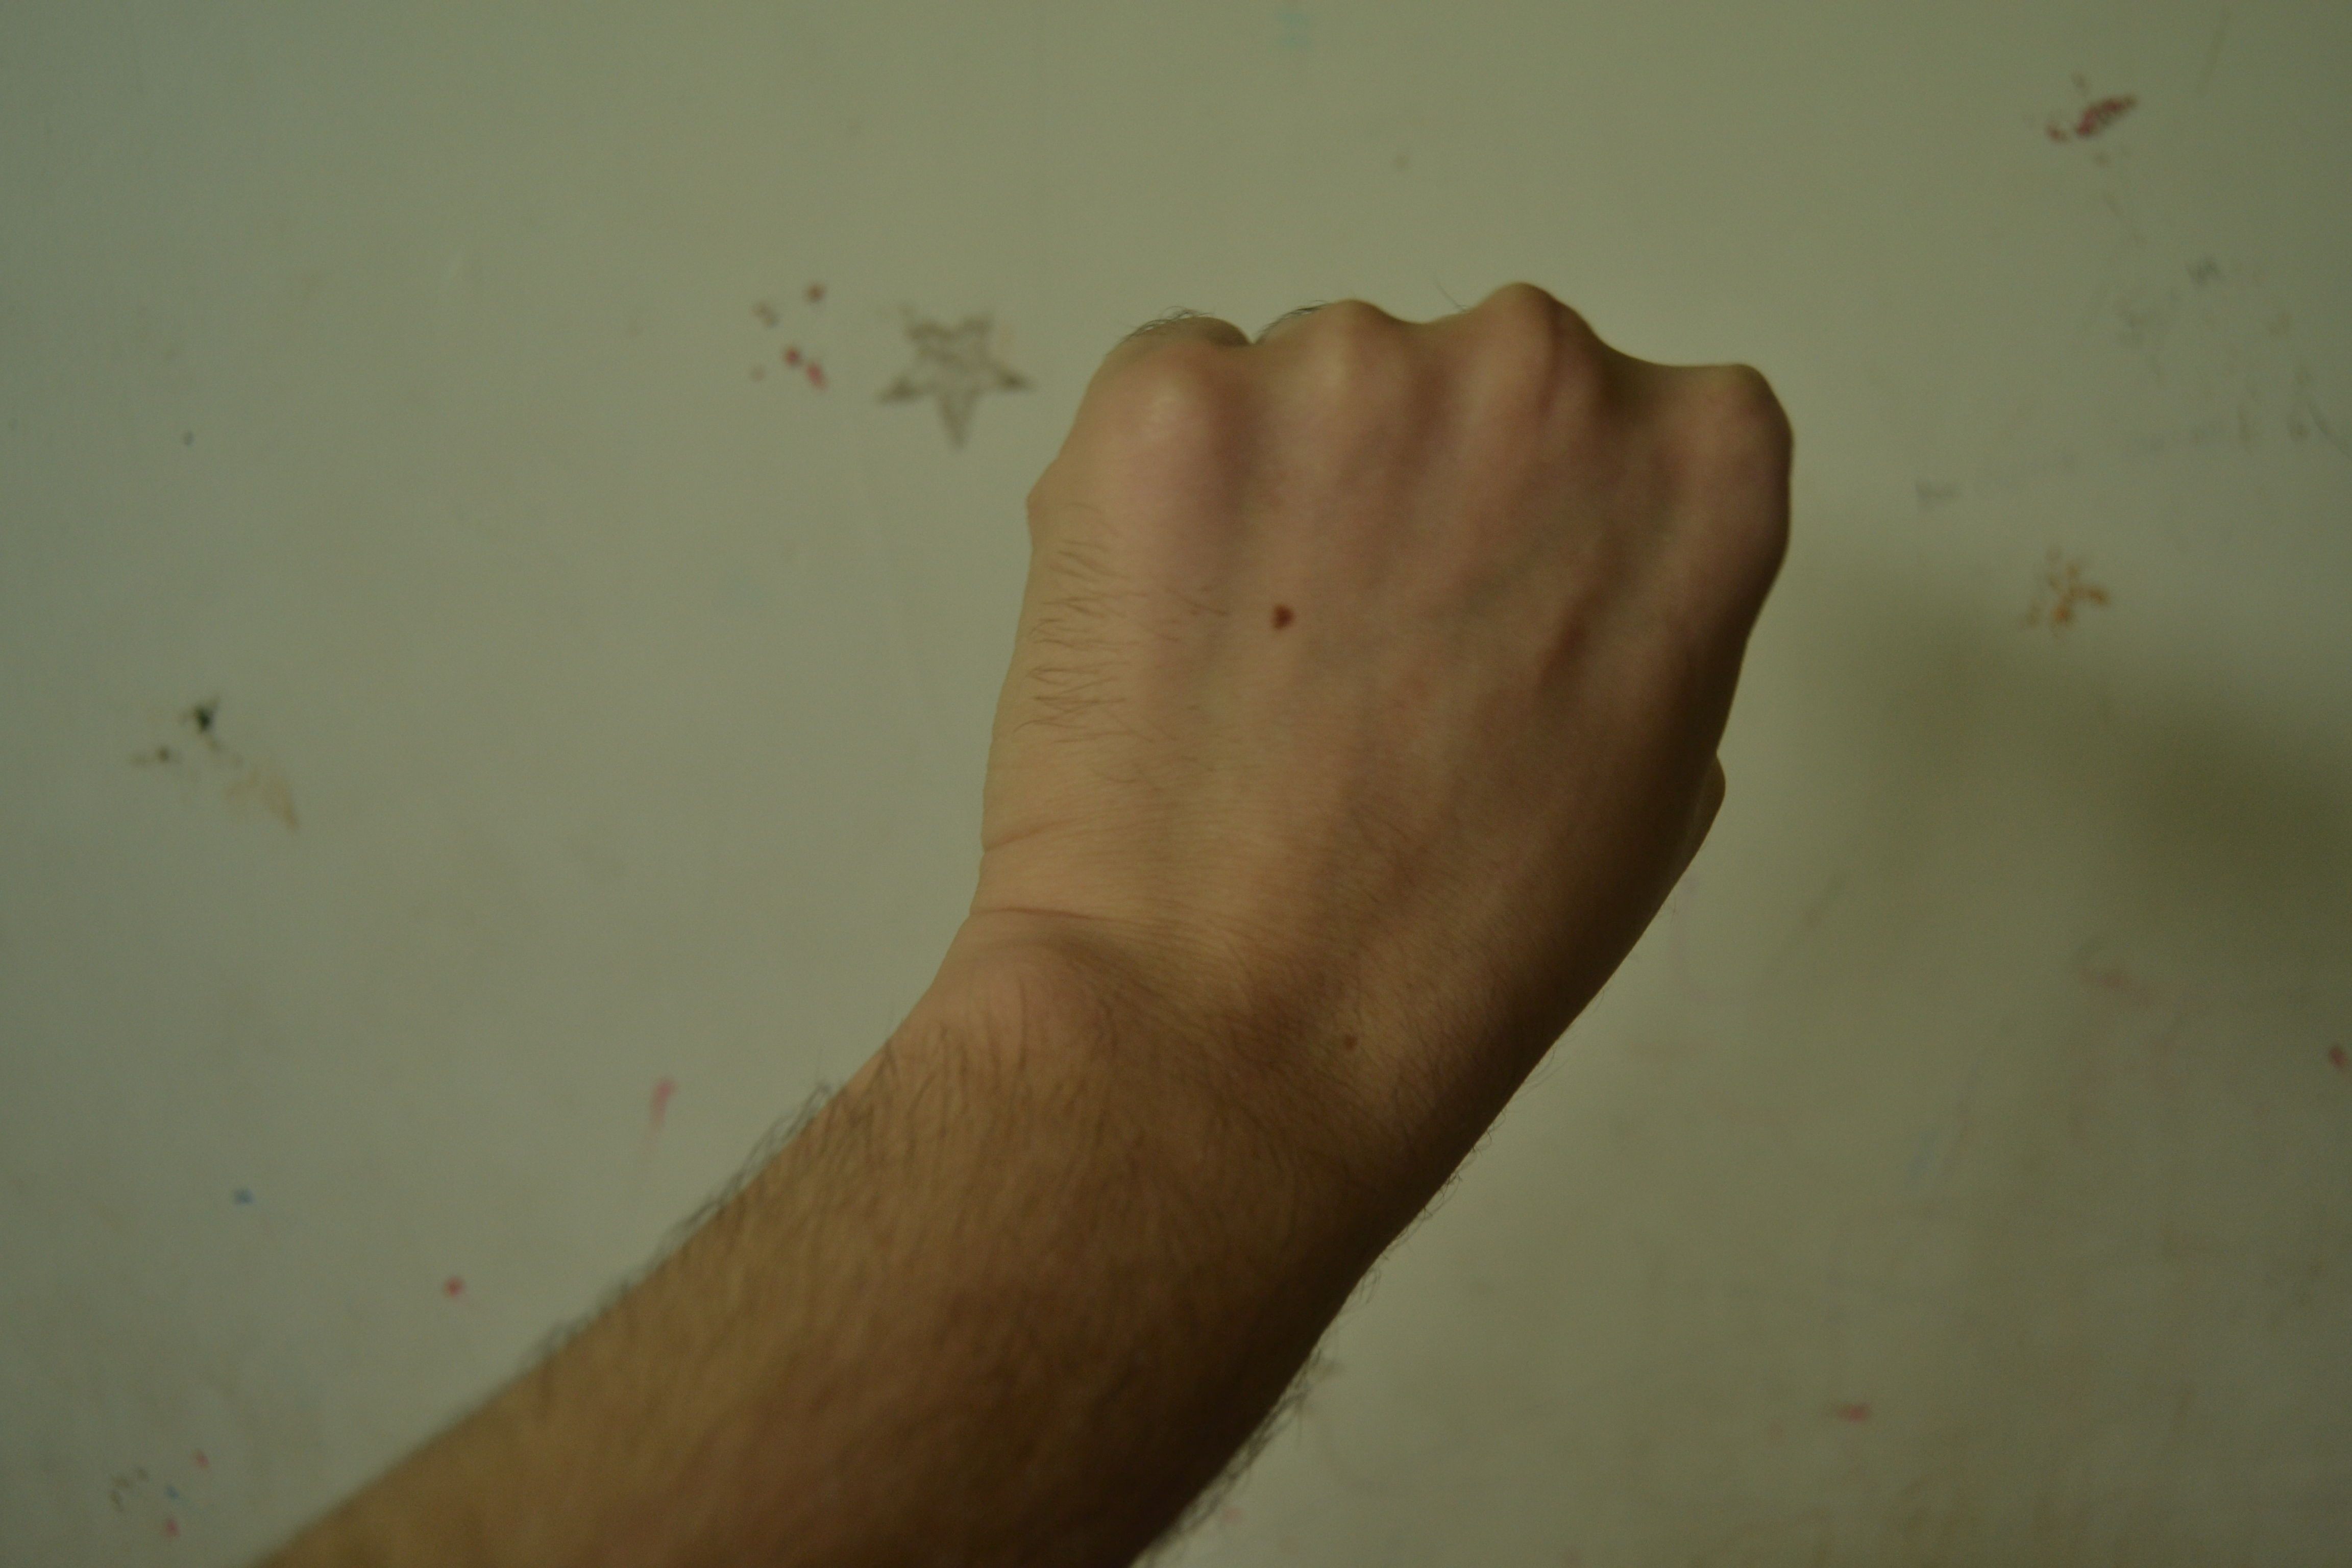click: (957, 201, 1841, 1262)
